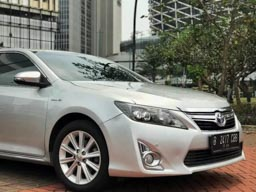plat: (208, 130, 235, 155)
